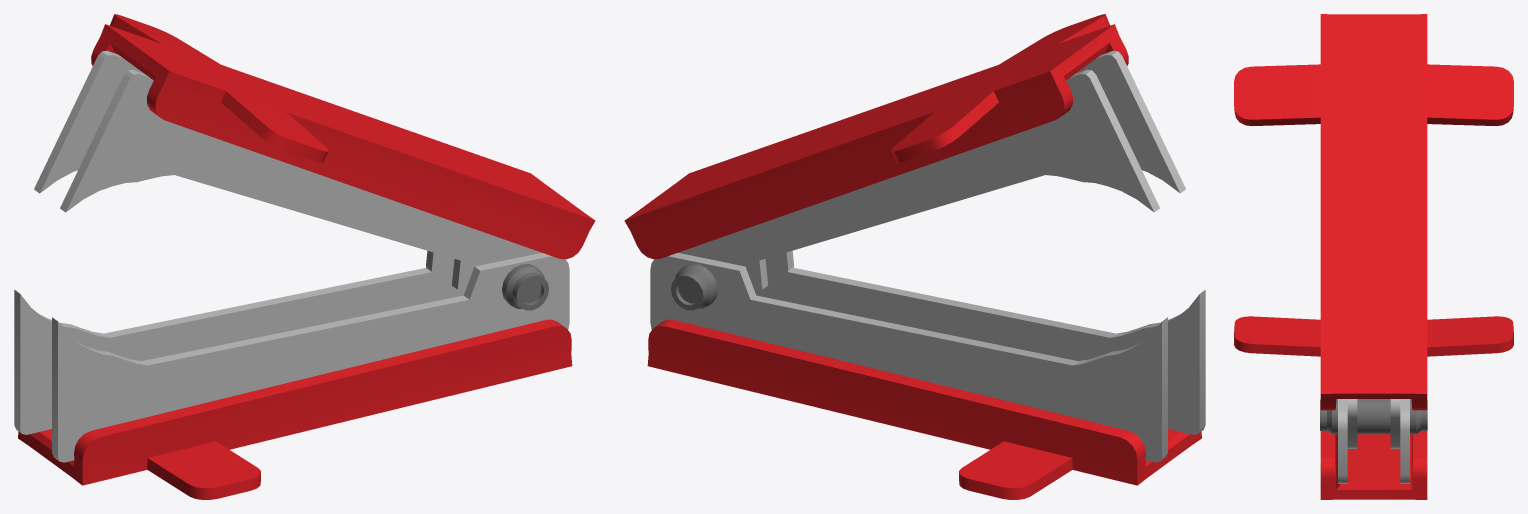
File: Staple Remover02.fbx
The picture shows the model from 3 angles, left to right: view 1: azimuth 30°, elevation 25°; view 2: azimuth 150°, elevation 25°; view 3: azimuth 270°, elevation 25°; orthographic projection. The views are drawn at different scales.
Visible parts, largest first — view 1: Staple Remover02; view 2: Staple Remover02; view 3: Staple Remover02.
Boxes of the visible parts, left/top/right/bottom form: Staple Remover02: left=14, top=14, right=595, bottom=499; Staple Remover02: left=624, top=14, right=1205, bottom=499; Staple Remover02: left=1234, top=14, right=1513, bottom=499.
Size of the model in its own units: 0.1178 by 0.0656 by 0.0839.
